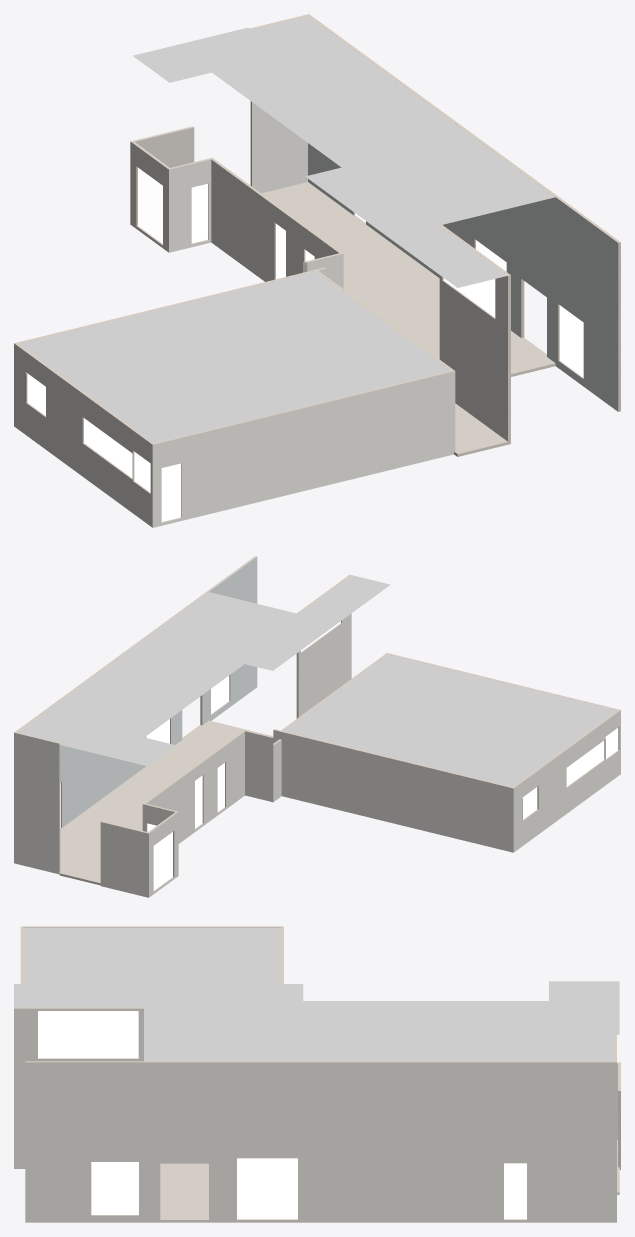
The model's file is Hall_room201.glb.
The picture shows the model from 3 angles, top to bottom: view 1: azimuth 30°, elevation 25°; view 2: azimuth 150°, elevation 25°; view 3: azimuth 270°, elevation 25°; orthographic projection. The views are drawn at different scales.
Visible parts, largest first — view 1: Ceiling_Living_Room, Ceiling_Dining_Room, Wall_0, Wall_9, Floor_Living_Room, Wall_2, Wall_7, Wall_11, Wall_3, Wall_10, Wall_4, Wall_8 (+7 smaller); view 2: Ceiling_Living_Room, Ceiling_Dining_Room, Wall_1, Floor_Living_Room, Wall_9, Wall_3, Wall_2, Wall_11, Wall_7, Wall_8, Wall_13, Wall_4 (+5 smaller); view 3: Wall_9, Ceiling_Living_Room, Ceiling_Dining_Room, Window_3, Door_2, Wall_7, Floor_Living_Room, Window_4, Door_3, Wall_2.
Boxes of the visible parts, <box> form: Ceiling_Living_Room: <box>133,16,555,287</box>; Ceiling_Dining_Room: <box>18,271,450,442</box>; Wall_0: <box>152,370,455,527</box>; Wall_9: <box>308,14,620,411</box>; Floor_Living_Room: <box>261,182,555,456</box>; Wall_2: <box>14,343,153,527</box>; Wall_7: <box>439,225,510,444</box>; Wall_11: <box>211,158,342,281</box>; Wall_3: <box>250,14,308,193</box>; Wall_10: <box>169,158,211,252</box>; Wall_4: <box>130,141,169,252</box>; Wall_8: <box>131,126,194,167</box>; Ceiling_Living_Room: <box>17,575,390,766</box>; Ceiling_Dining_Room: <box>282,654,616,786</box>; Wall_1: <box>281,731,513,852</box>; Floor_Living_Room: <box>59,720,273,885</box>; Wall_9: <box>14,556,257,827</box>; Wall_3: <box>14,732,60,874</box>; Wall_2: <box>513,710,620,852</box>; Wall_11: <box>143,730,244,843</box>; Wall_7: <box>296,574,351,718</box>; Wall_8: <box>100,821,148,897</box>; Wall_13: <box>244,730,273,802</box>; Wall_4: <box>148,811,178,897</box>; Wall_9: <box>25,1061,616,1222</box>; Ceiling_Living_Room: <box>14,981,619,1061</box>; Ceiling_Dining_Room: <box>23,927,280,983</box>; Window_3: <box>38,1011,138,1058</box>; Door_2: <box>237,1158,297,1219</box>; Wall_7: <box>14,1007,143,1168</box>; Floor_Living_Room: <box>160,1139,619,1219</box>; Window_4: <box>91,1162,138,1214</box>; Door_3: <box>504,1163,526,1219</box>; Wall_2: <box>21,926,282,927</box>.
Bounding box in the file's own units: 17.36 × 5.98 × 20.45.
15 materials, 4 textured.
